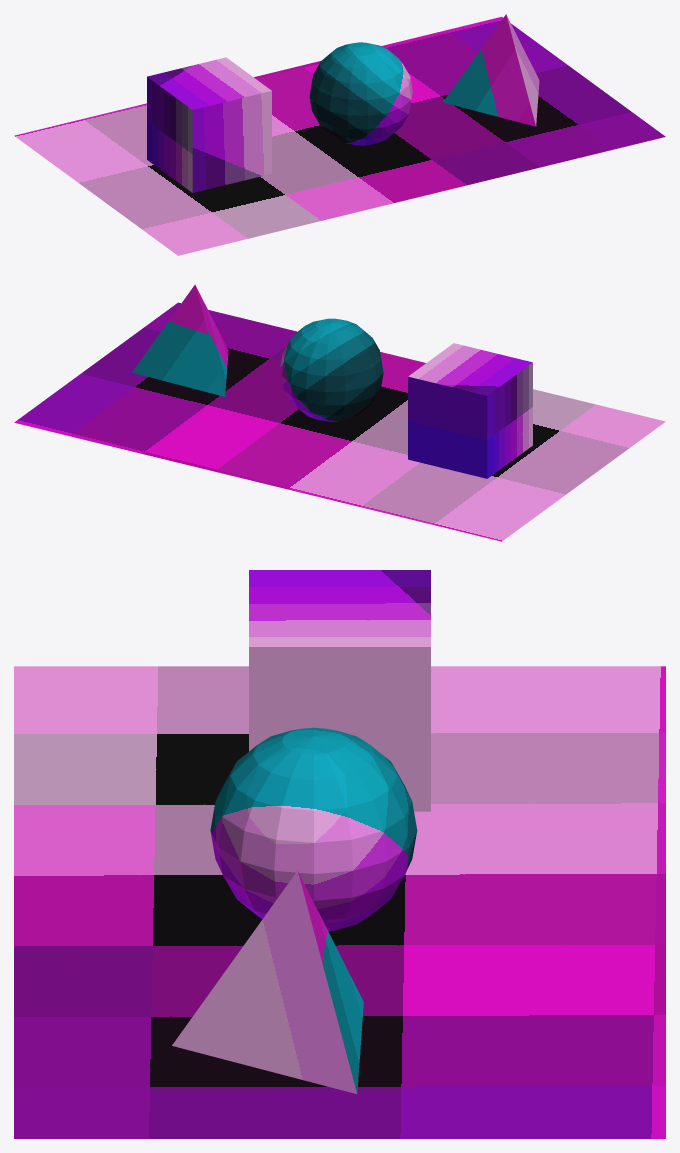
Rendered from pixelmapping.glb.
The picture shows the model from 3 angles, top to bottom: view 1: azimuth 30°, elevation 25°; view 2: azimuth 150°, elevation 25°; view 3: azimuth 270°, elevation 25°; orthographic projection. The views are drawn at different scales.
Parts seen in each view (by area): view 1: Plane, Cube, Sphere, Cone; view 2: Plane, Cube, Sphere, Cone; view 3: Plane, Cube, Sphere, Cone.
Part boxes in pixels (left/top/right/bottom): Plane: left=14, top=16, right=665, bottom=255; Cube: left=147, top=57, right=271, bottom=192; Sphere: left=309, top=42, right=412, bottom=145; Cone: left=443, top=14, right=539, bottom=126; Plane: left=14, top=302, right=665, bottom=541; Cube: left=408, top=343, right=532, bottom=478; Sphere: left=280, top=318, right=383, bottom=421; Cone: left=132, top=284, right=228, bottom=396; Plane: left=14, top=666, right=665, bottom=1138; Cube: left=249, top=570, right=430, bottom=811; Sphere: left=210, top=727, right=417, bottom=931; Cone: left=172, top=870, right=363, bottom=1093.
Bounding box in the file's own units: 12.3 × 2.31 × 7.17.
1 material, 1 textured.
